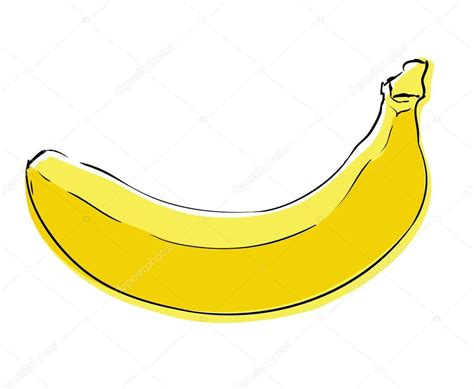banana: (20, 121, 435, 318)
